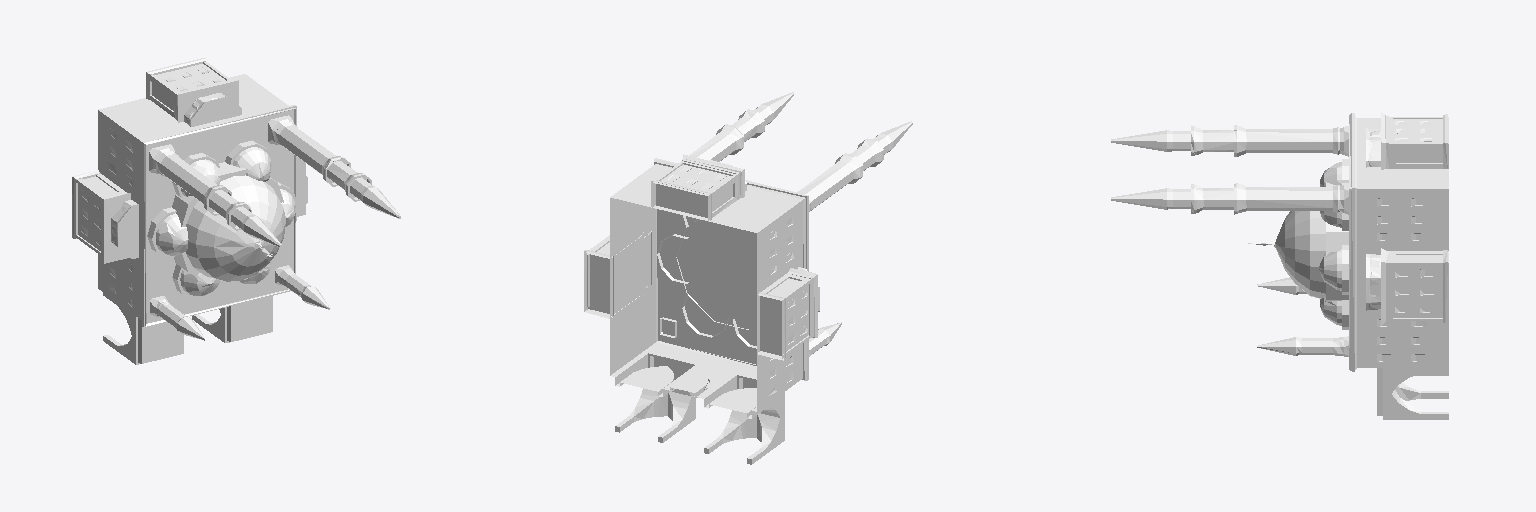
The model's file is mosque1LOD.obj.
3 renders of one model, left to right at view 1: azimuth 30°, elevation 25°; view 2: azimuth 150°, elevation 25°; view 3: azimuth 270°, elevation 25°, orthographic.
Parts seen in each view (by area): view 1: mosque1.001_LOD1.001_LOD1; view 2: mosque1.001_LOD1.001_LOD1; view 3: mosque1.001_LOD1.001_LOD1.
Boxes of the visible parts, box(x1,y1,x2,y2) form: mosque1.001_LOD1.001_LOD1: box(72, 58, 400, 364); mosque1.001_LOD1.001_LOD1: box(584, 92, 912, 464); mosque1.001_LOD1.001_LOD1: box(1111, 112, 1448, 419).
Size of the model in its own units: 20.01 by 24.68 by 28.98.